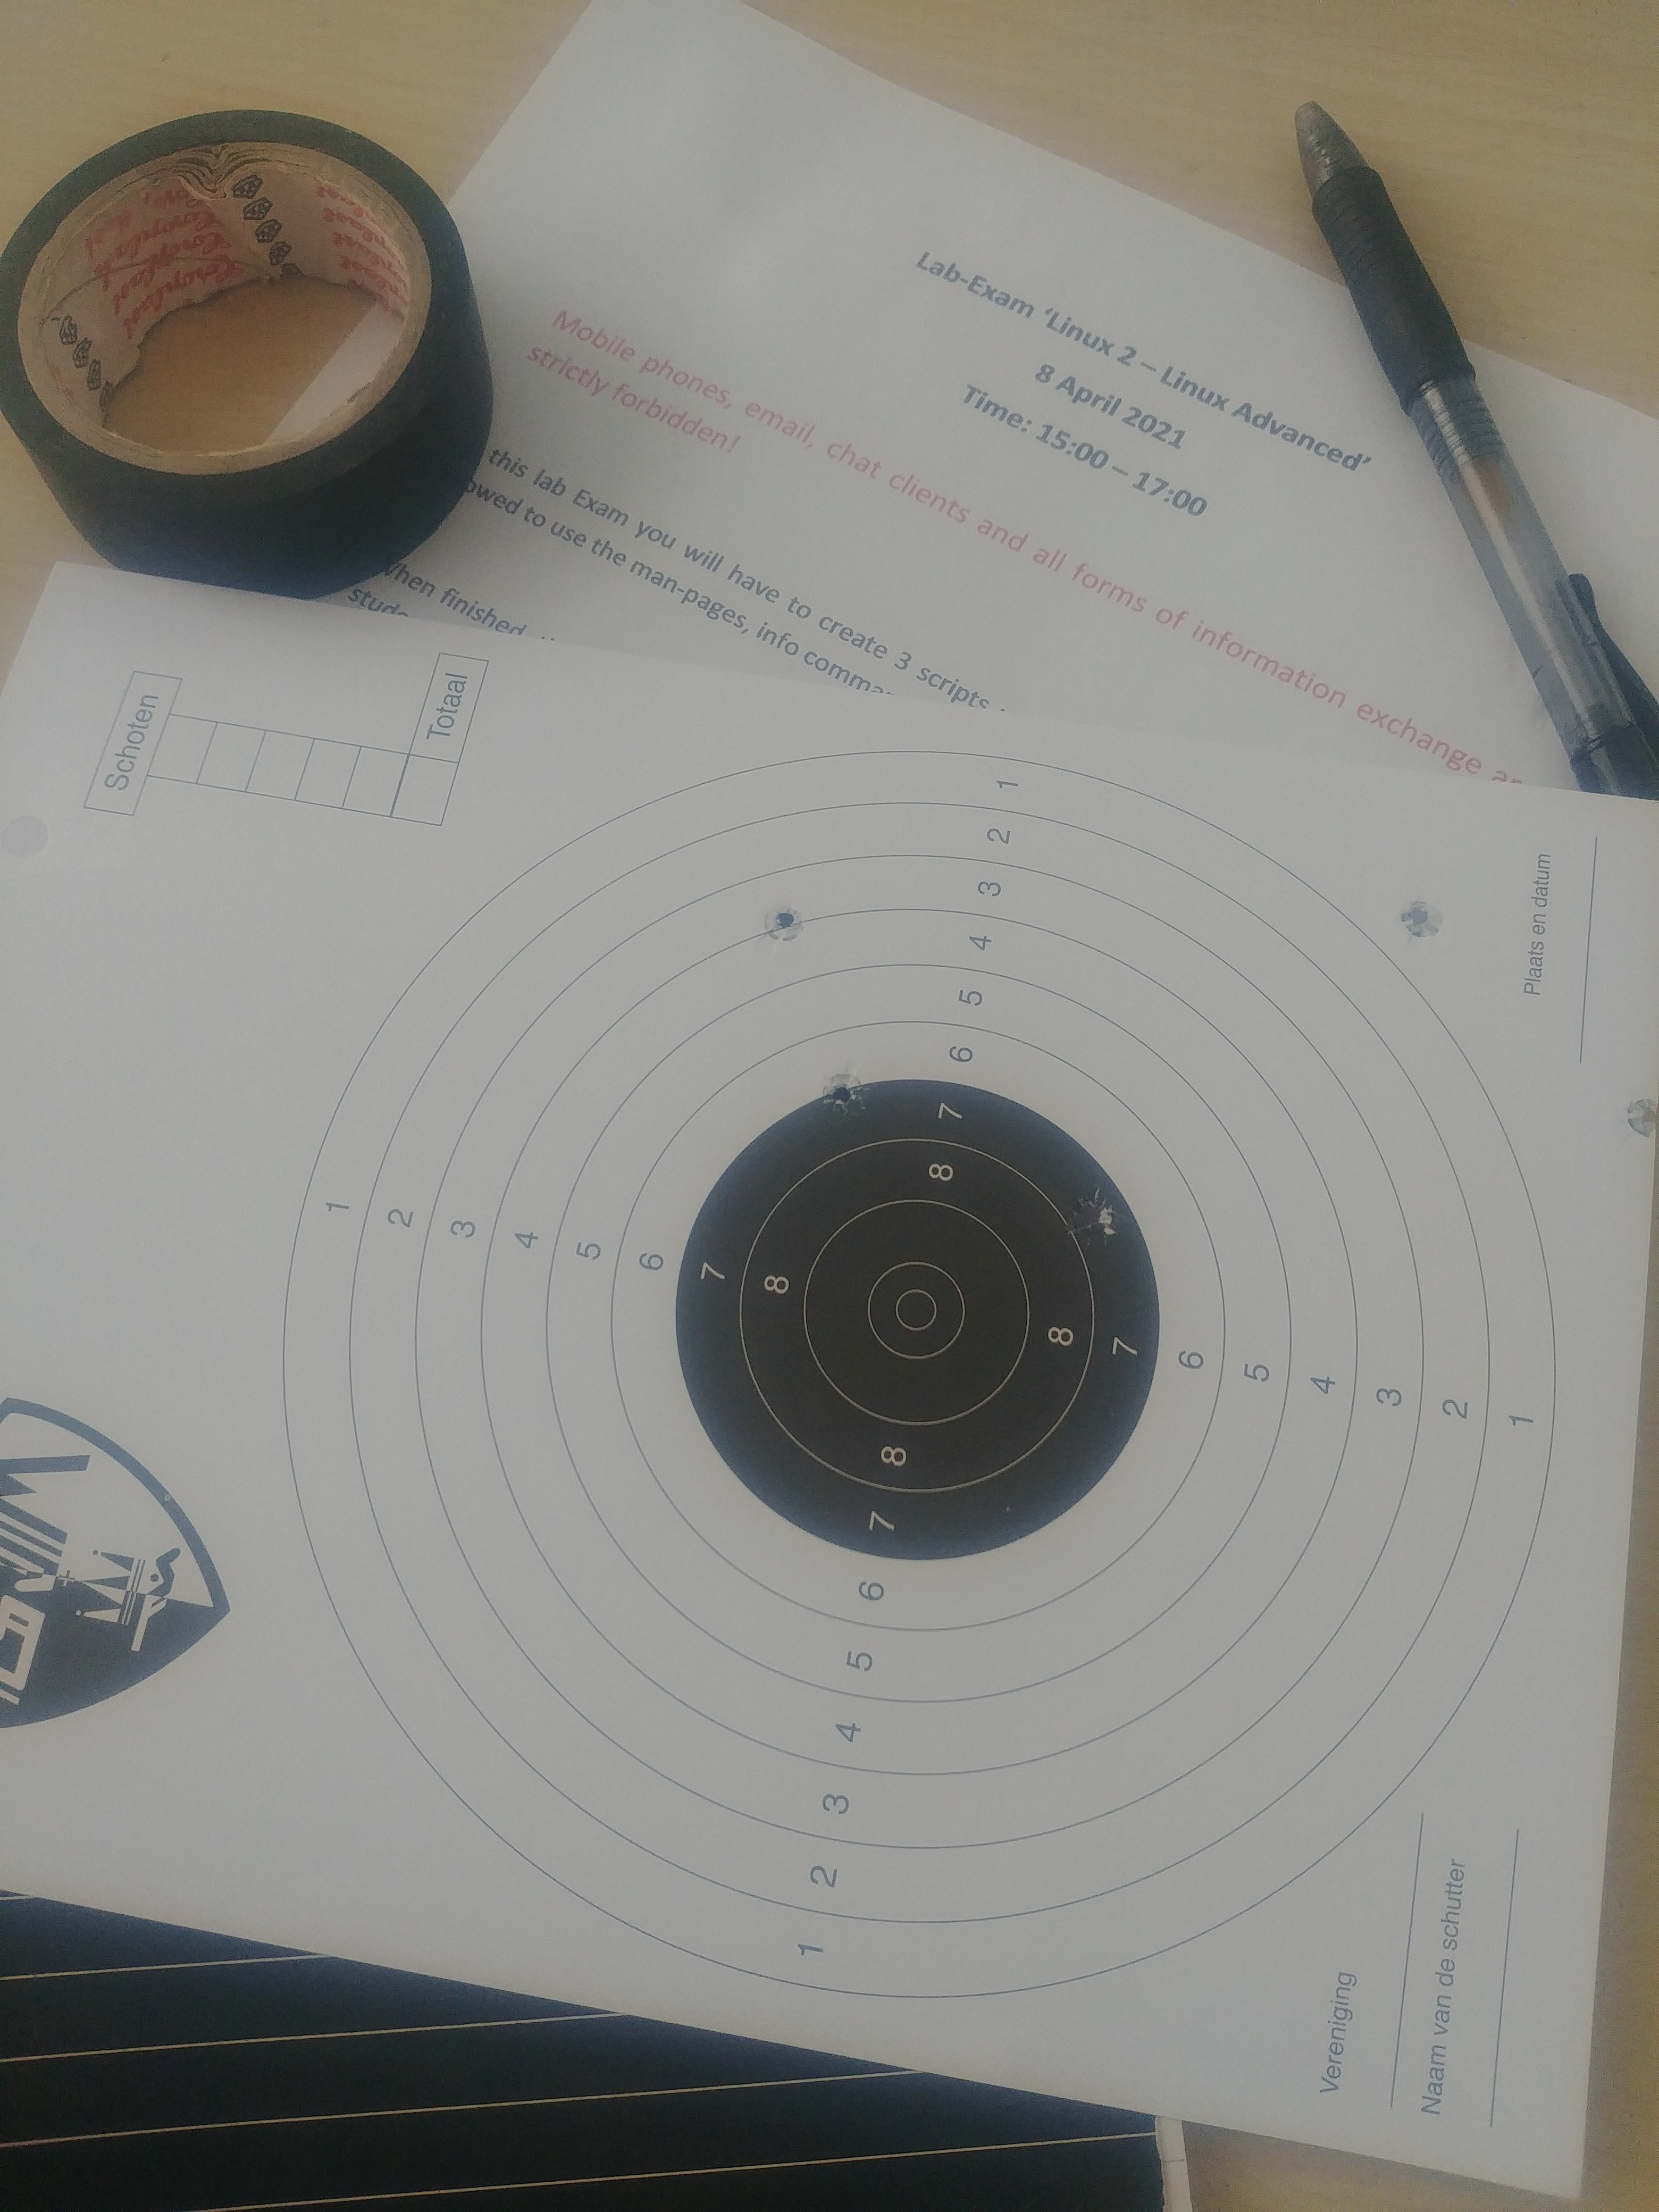center: (674, 1078, 1161, 1561)
out: (281, 749, 1558, 1998)
shot: (1060, 1184, 1129, 1249), (1396, 892, 1450, 946), (819, 1066, 873, 1120), (760, 900, 807, 951), (1619, 1090, 1656, 1139)
target: (866, 1261, 965, 1360)
